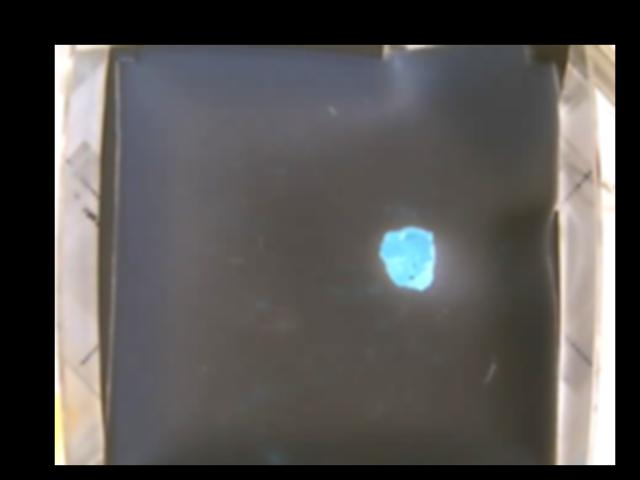Brisk: (380, 226, 436, 292)
